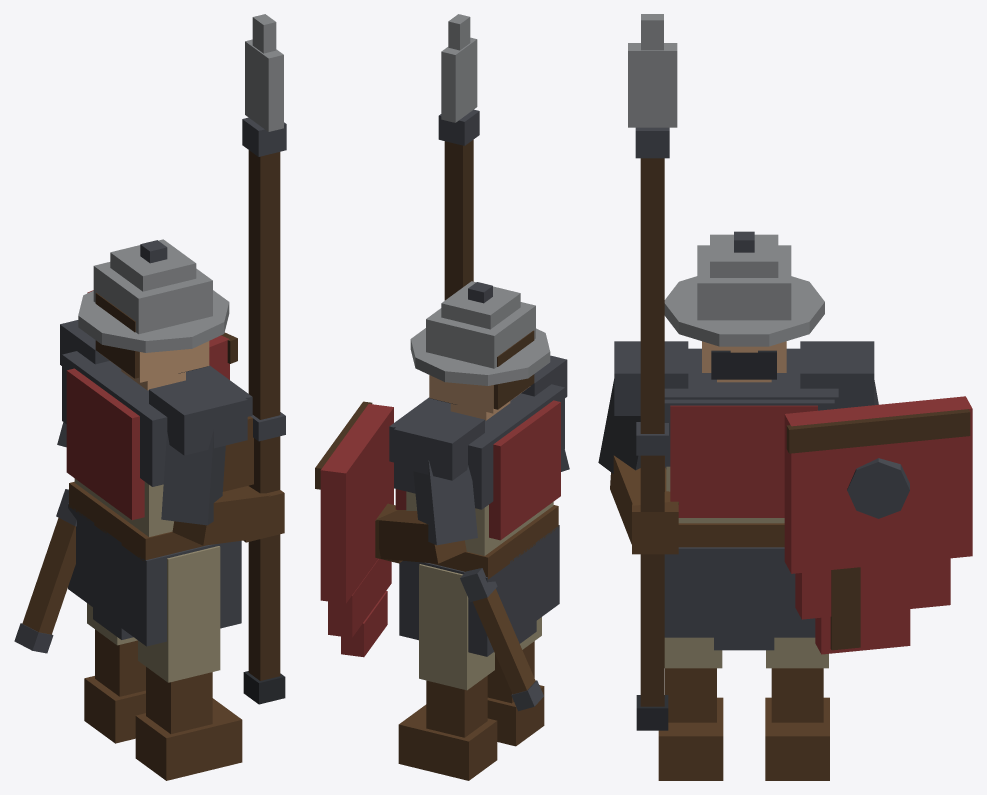
Rendered from spearman.glb.
3 renders of one model, left to right at view 1: azimuth 30°, elevation 25°; view 2: azimuth 150°, elevation 25°; view 3: azimuth 270°, elevation 25°, orthographic. The views are drawn at different scales.
Visible parts, largest first — view 1: Cube.041, Cube.014, Cube.003, Cube.010, Cube.035, Cube.005, Cube.025, Cube.009, Cube.032, Cylinder, Cube.004, Cube.033 (+21 smaller); view 2: Cube.036, Cube.014, Cube, Cube.031, Cube.002, Cube.041, Cube.009, Cube.025, Cube.028, Cylinder, Cube.012, Cube.029 (+20 smaller); view 3: Cube.036, Cube.013, Cube.041, Cube.011, Cube.037, Cylinder, Cube.039, Cube.025, Cube.010, Cube.031, Cube.002, Cube.009 (+24 smaller).
Boxes of the visible parts, x1,y1,x2,y2 form: Cube.041: (248, 150, 280, 680); Cube.014: (66, 368, 144, 520); Cube.003: (138, 546, 220, 682); Cube.010: (120, 540, 241, 646); Cube.035: (149, 374, 247, 455); Cube.005: (135, 698, 242, 780); Cube.025: (93, 262, 212, 334); Cube.009: (62, 351, 247, 486); Cube.032: (161, 429, 225, 525); Cylinder: (78, 290, 229, 352); Cube.004: (146, 667, 212, 733); Cube.033: (172, 485, 270, 545); Cube.036: (320, 404, 393, 603); Cube.014: (489, 400, 560, 540); Cube: (419, 564, 494, 690); Cube.031: (394, 405, 484, 480); Cube.002: (398, 704, 497, 780); Cube.041: (444, 140, 473, 300); Cube.009: (394, 384, 564, 509); Cube.025: (426, 302, 535, 368); Cube.028: (413, 460, 477, 545); Cylinder: (410, 328, 550, 385); Cube.012: (399, 561, 509, 656); Cube.029: (376, 510, 466, 563); Cube.036: (784, 396, 972, 573); Cube.013: (670, 405, 817, 517); Cube.041: (640, 158, 664, 706); Cube.011: (714, 547, 774, 650); Cube.037: (795, 558, 950, 619); Cylinder: (664, 276, 824, 346); Cube.039: (786, 409, 970, 453); Cube.025: (697, 245, 791, 320); Cube.010: (664, 547, 716, 637); Cube.031: (800, 341, 874, 408); Cube.002: (765, 697, 829, 780); Cube.009: (664, 348, 838, 466).
Size of the model in its own units: 9.03 by 31.2 by 13.68.
